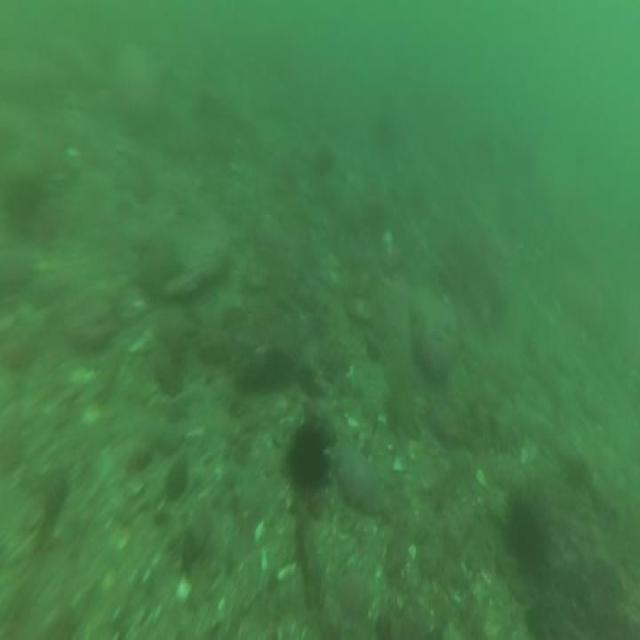echinus: (498, 487, 548, 572), (283, 417, 335, 498), (369, 109, 405, 163), (310, 136, 337, 183)
